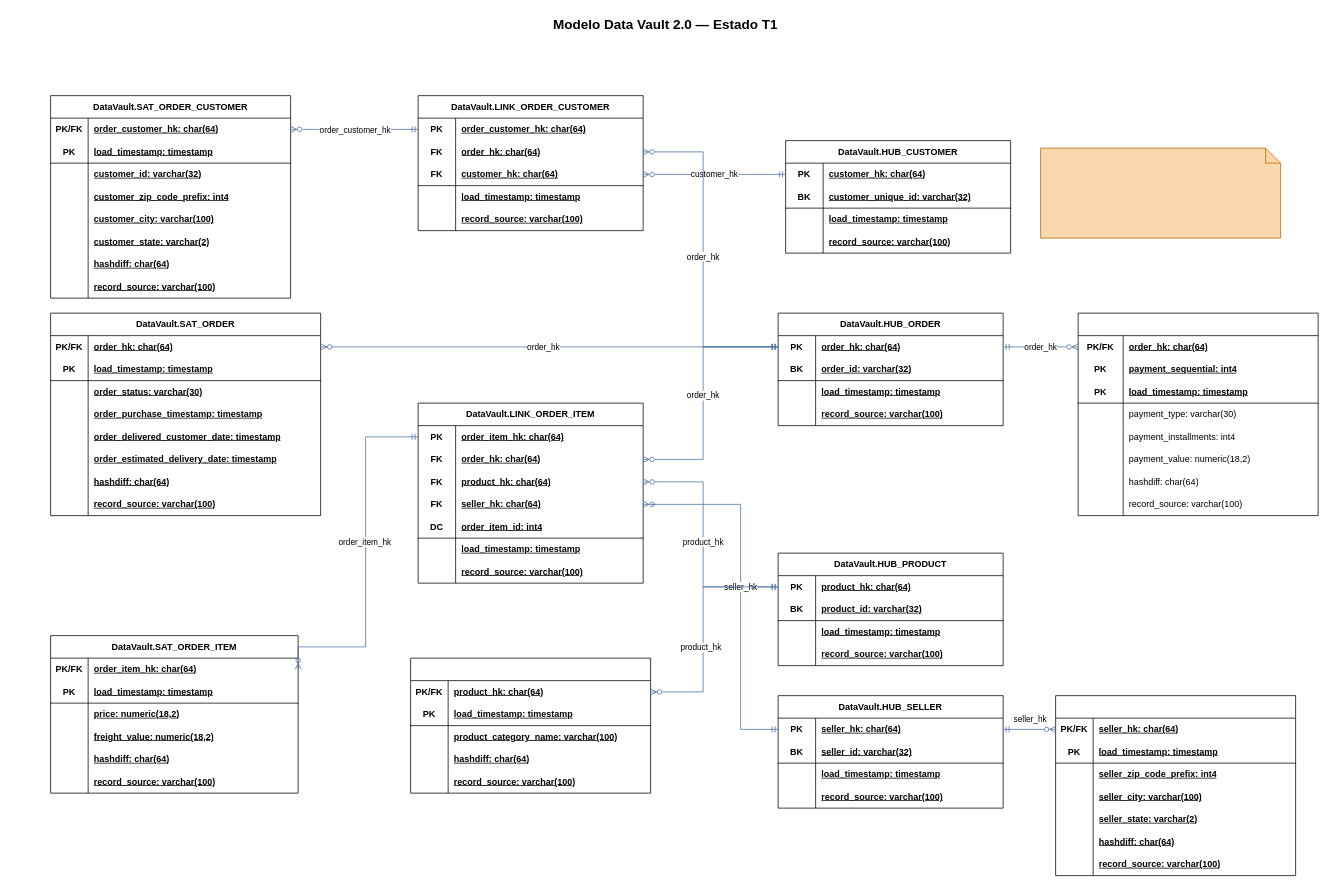
Some shapes in this 1331 by 889 pixel diagram are drawn without their labels. Here are the shapes that lost their labels. From the top down, the box of each, then its label:
(1040, 147, 1281, 238): Legenda PK = Primary Key FK = Foreign Key BK = Business Key DC = Dependent Child
(1077, 312, 1318, 516): DataVault.SAT_ORDER_PAYMENT
(410, 657, 651, 793): DataVault.SAT_PRODUCT
(1055, 695, 1296, 876): DataVault.SAT_SELLER
